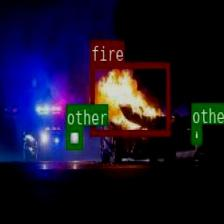fire: (90, 62, 169, 134)
